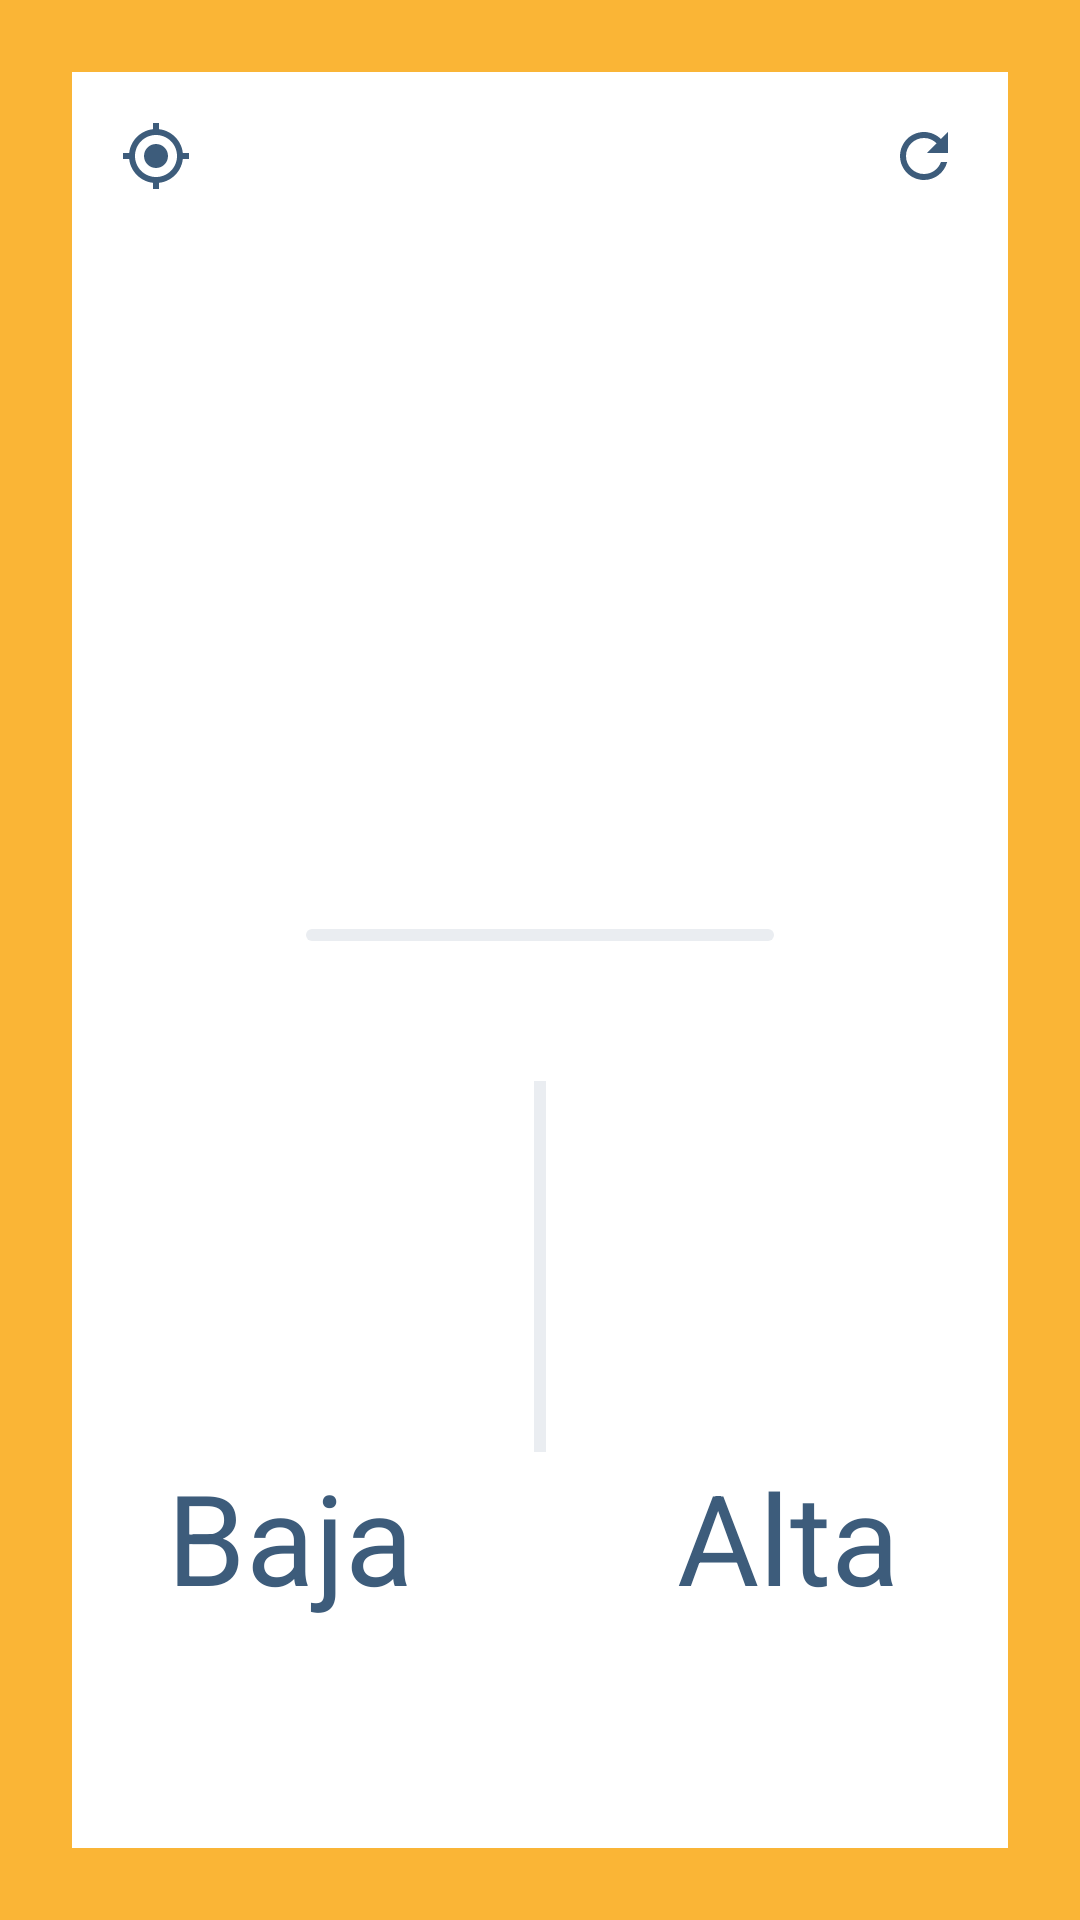

Named icons in this screenshot (1080px x 1920px) and their bounding boxes, (x1, y1, x2, y2):
location: (123, 123, 189, 189)
refresh: (900, 132, 948, 180)
